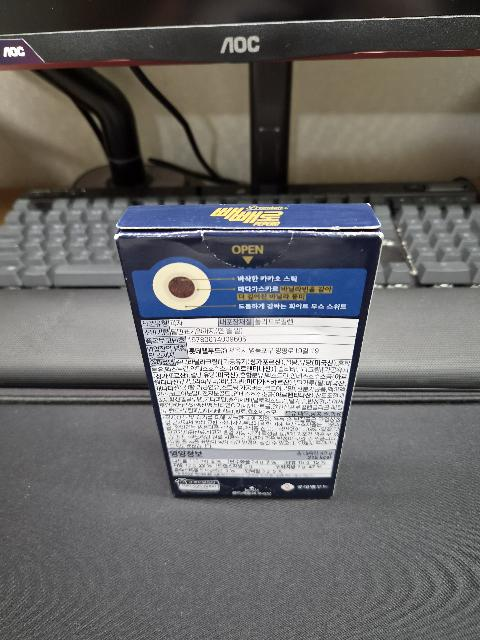pepero: (113, 203, 384, 499)
